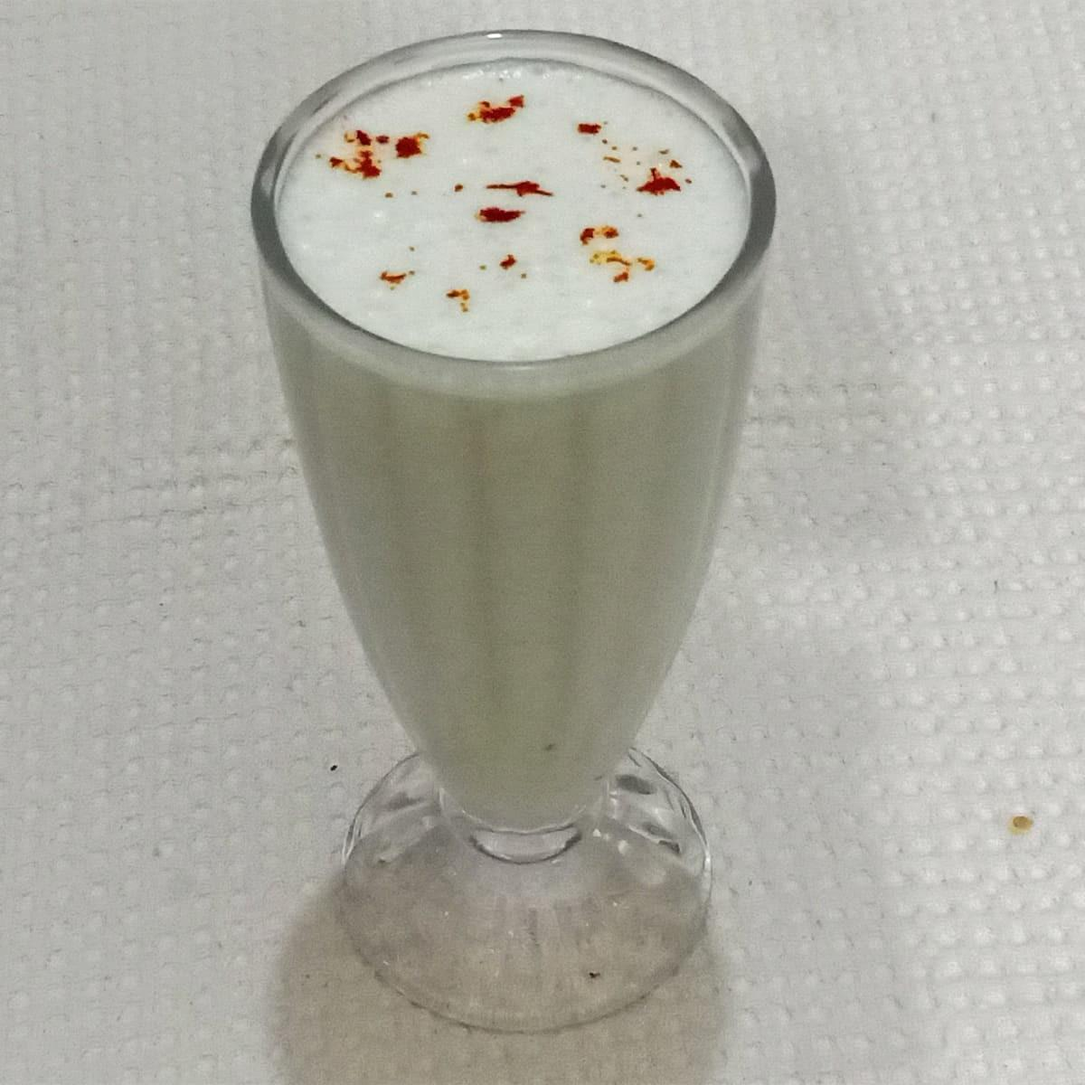Lassi: (272, 53, 755, 827)
